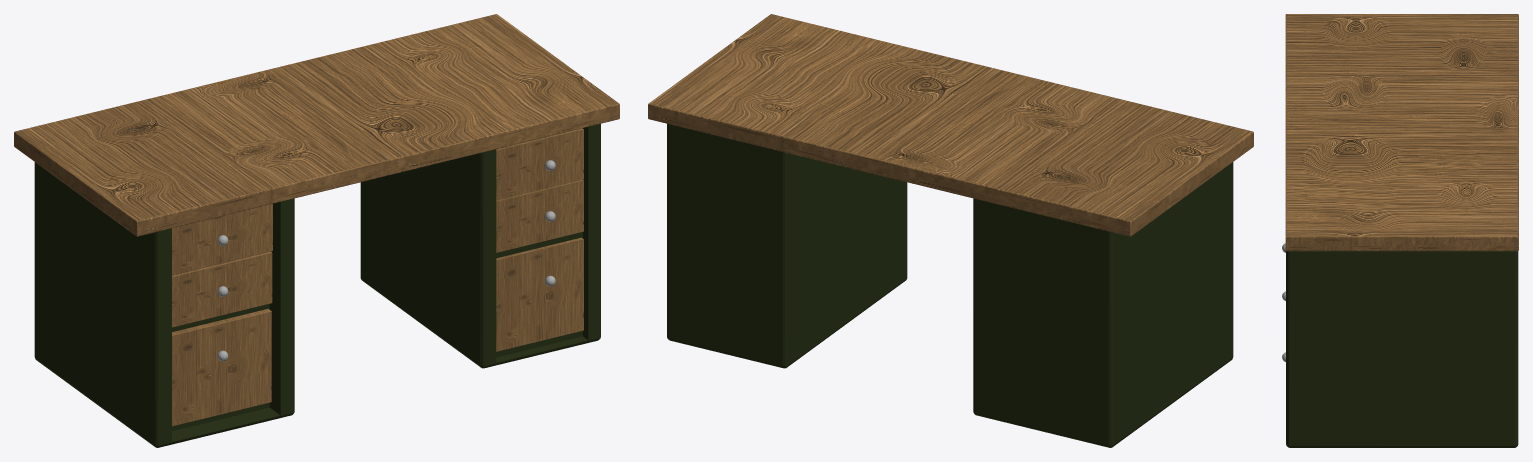
The model's file is desk.dae.
3 views of the same model, side by side, from view 1: azimuth 30°, elevation 25°; view 2: azimuth 150°, elevation 25°; view 3: azimuth 270°, elevation 25° (orthographic). The views are drawn at different scales.
Visible parts, largest first — view 1: Desk_Planche, Desk_Base-, Desk_Base, Desk_Tiroir-3, Desk_Tiroir-3_1, Desk_Tiroir-2, Desk_Tiroir_1-, Desk_Tiroir-2_1, Desk_Tiroir_1-_1; view 2: Desk_Planche, Desk_Base-, Desk_Base; view 3: Desk_Planche, Desk_Base.
Part boxes in pixels (x1,y1,x2,y2): Desk_Planche: (14,14,619,236); Desk_Base-: (34,162,294,447); Desk_Base: (360,123,600,368); Desk_Tiroir-3: (172,308,271,426); Desk_Tiroir-3_1: (496,237,583,351); Desk_Tiroir-2: (172,251,272,327); Desk_Tiroir_1-: (172,204,272,275); Desk_Tiroir-2_1: (496,179,583,252); Desk_Tiroir_1-_1: (496,128,583,200); Desk_Planche: (648,14,1253,236); Desk_Base-: (973,162,1233,447); Desk_Base: (667,123,907,368); Desk_Planche: (1285,14,1518,251); Desk_Base: (1286,251,1518,447).
Size of the model in its own units: 454 by 204 by 209.
Materials: 3 (1 with a texture image).
